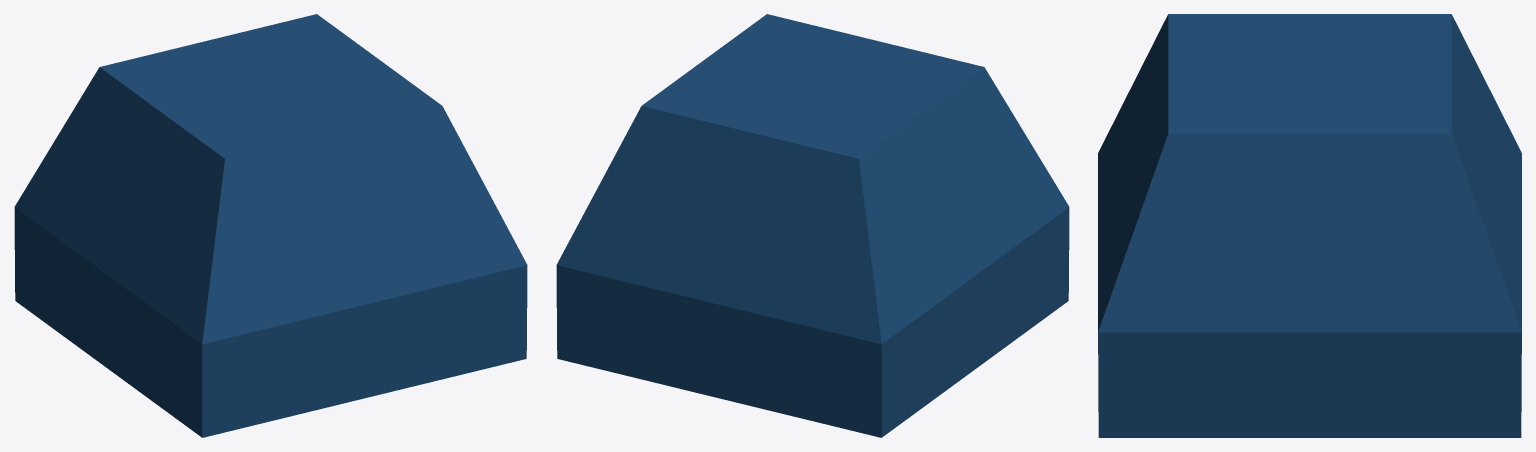
File: block.fbx
3 renders of one model, left to right at view 1: azimuth 30°, elevation 25°; view 2: azimuth 150°, elevation 25°; view 3: azimuth 270°, elevation 25°, orthographic. The views are drawn at different scales.
Parts seen in each view (by area): view 1: Cube.037; view 2: Cube.037; view 3: Cube.037.
Part boxes in pixels (bbox=[...]): Cube.037: bbox=[14, 14, 527, 437]; Cube.037: bbox=[556, 14, 1069, 437]; Cube.037: bbox=[1098, 14, 1521, 437].
Size of the model in its own units: 300 by 215 by 300.
